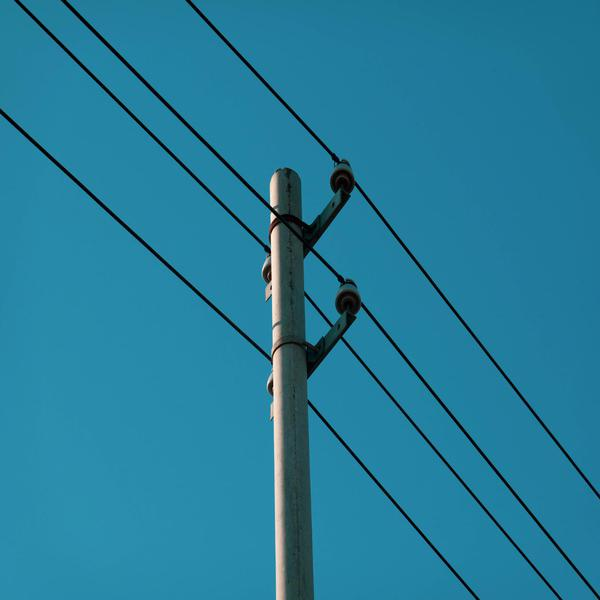utility_pole: (242, 144, 371, 414)
